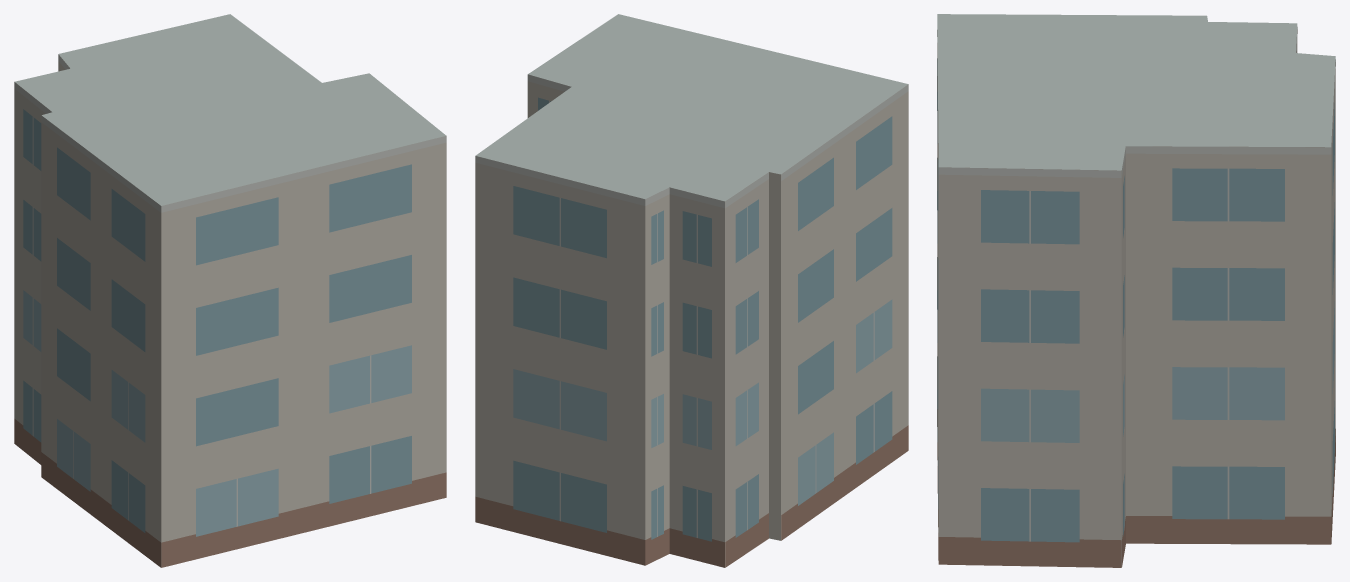
Rendered from survey-upis-32608717.glb.
The picture shows the model from 3 angles, left to right: view 1: azimuth 30°, elevation 25°; view 2: azimuth 150°, elevation 25°; view 3: azimuth 270°, elevation 25°; orthographic projection. The views are drawn at different scales.
Visible parts, largest first — view 1: survey-upis-32608717.tmp; view 2: survey-upis-32608717.tmp; view 3: survey-upis-32608717.tmp.
Boxes of the visible parts, x1=… form: survey-upis-32608717.tmp: x1=14, y1=14, x2=446, y2=567; survey-upis-32608717.tmp: x1=475, y1=14, x2=908, y2=567; survey-upis-32608717.tmp: x1=937, y1=14, x2=1335, y2=567.
Size of the model in its own units: 10.95 by 12.95 by 11.79.
